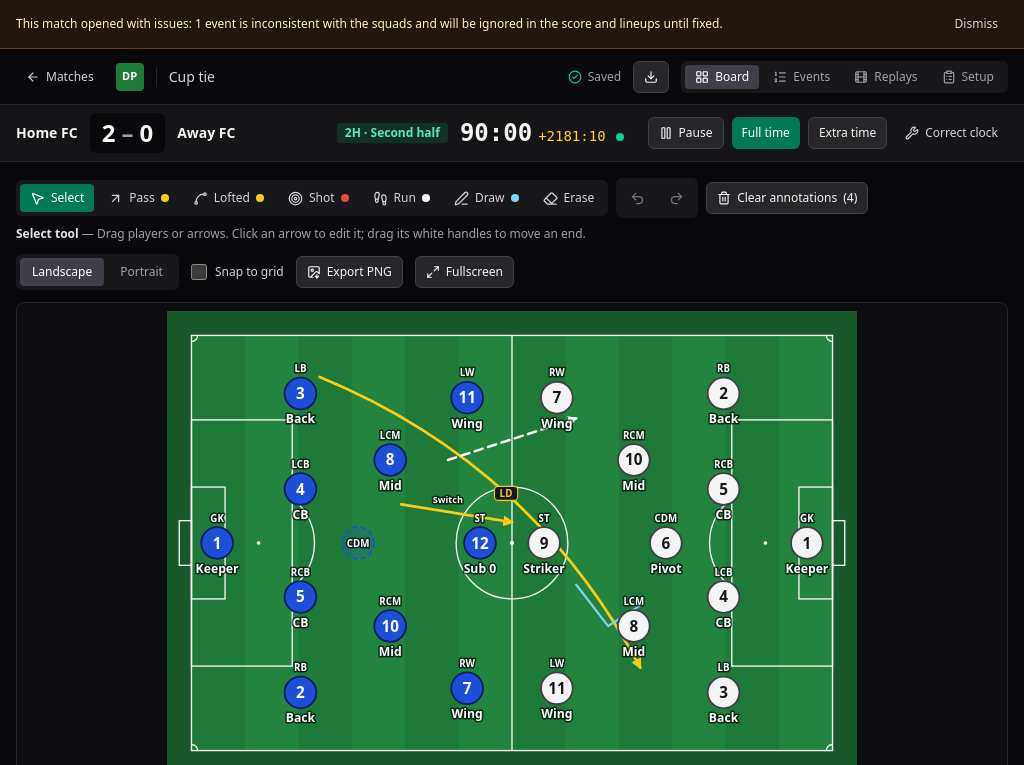
Test case: MatchLoader › shows load warnings and lets the user dismiss them
The width and height of the screenshot is (1024, 765).
Expected: the text "opened with issues" shows "1 event is inconsistent", [195,15,723,32]
Click the button "Dismiss".
click(976, 24)  # box [945,8,1008,40]
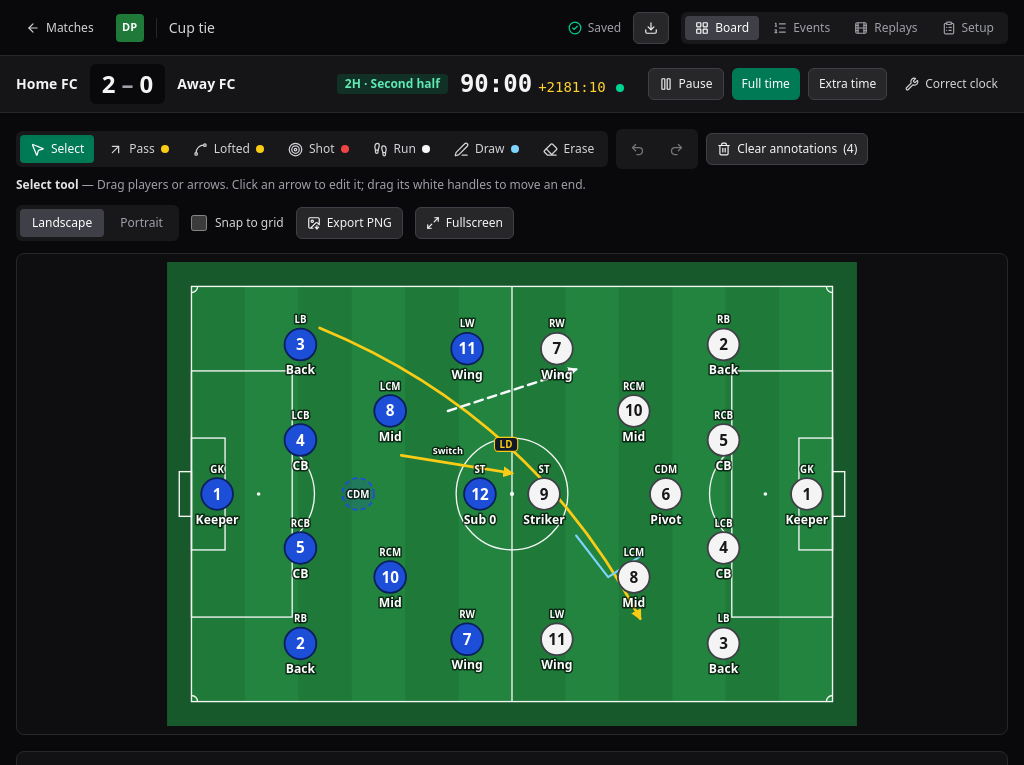
Expected: the text "opened with issues" is gone
